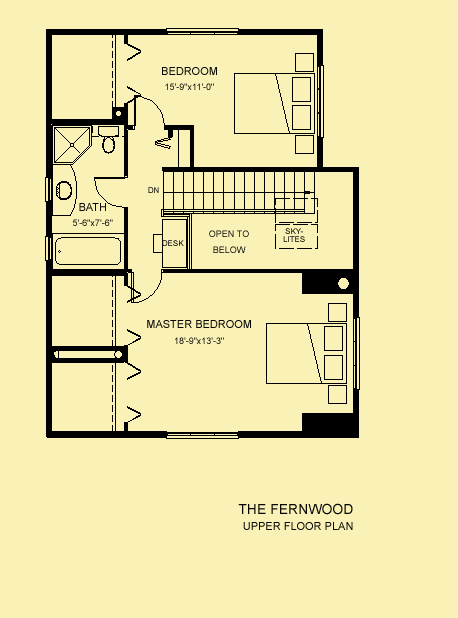bed: (232, 70, 316, 139), (264, 323, 349, 386)
door: (129, 265, 163, 304), (89, 175, 127, 208), (132, 96, 167, 131)
large_sink: (94, 127, 122, 155)
small_sink: (52, 164, 78, 217)
stairs: (158, 168, 318, 214)
tub: (50, 231, 127, 272)
window: (162, 432, 242, 443), (164, 26, 241, 35)
